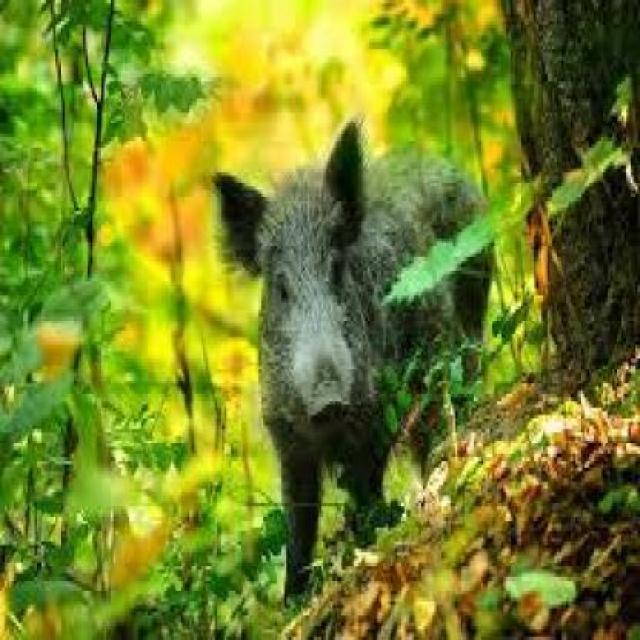wildboar: (203, 113, 503, 622)
